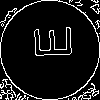E: (25, 25, 72, 60)
